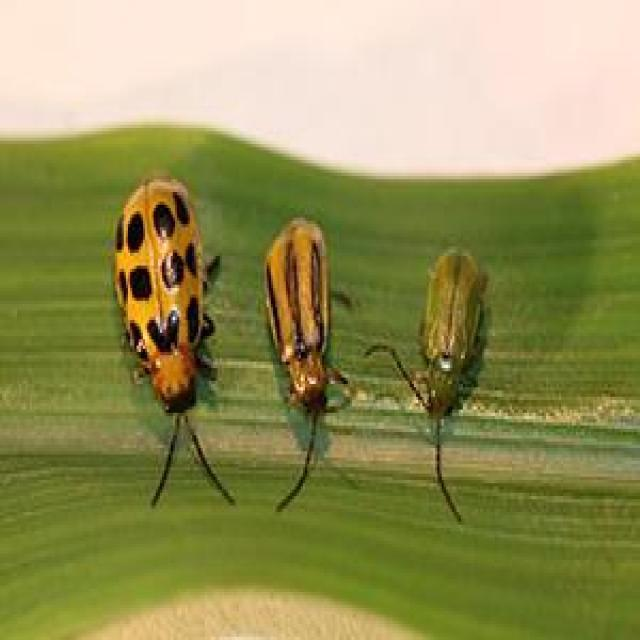gusano_gris: (366, 250, 478, 522)
gusano_verde: (112, 180, 238, 510)
trips: (264, 215, 360, 516)
